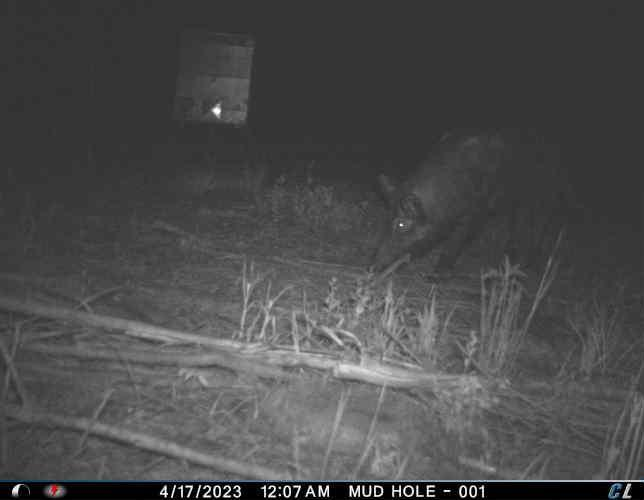Hog: (370, 120, 584, 281)
